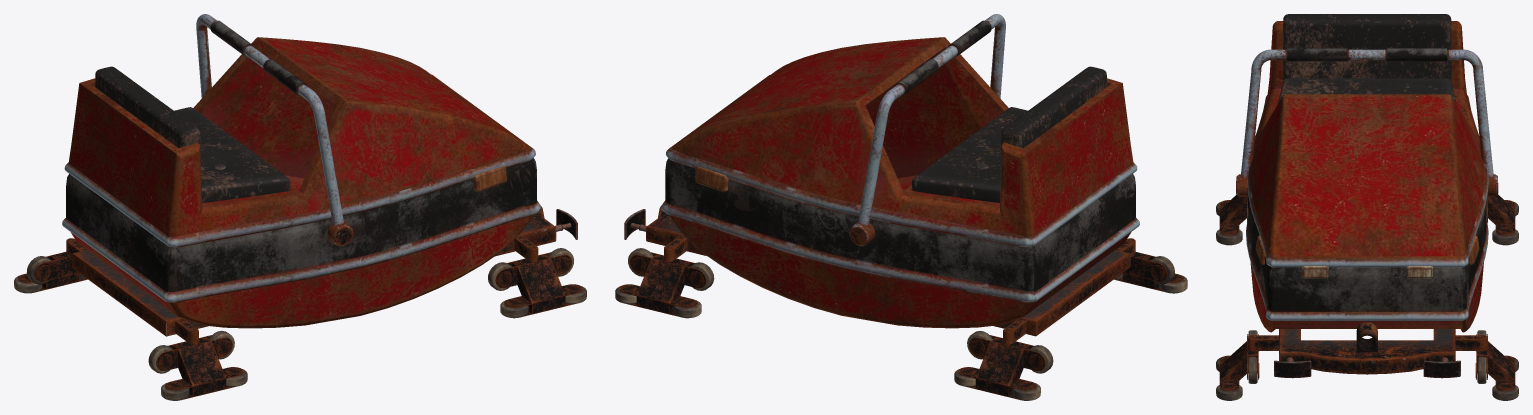
File: AbandonedCoasterCart.fbx
3 renders of one model, left to right at view 1: azimuth 30°, elevation 25°; view 2: azimuth 150°, elevation 25°; view 3: azimuth 270°, elevation 25°, orthographic. The views are drawn at different scales.
Parts seen in each view (by area): view 1: CartTrim, CartFrame, CartBody; view 2: CartTrim, CartFrame, CartBody; view 3: CartTrim, CartFrame, CartBody.
Part boxes in pixels (left/top/right/bottom): CartTrim: left=62, top=37, right=540, bottom=328; CartFrame: left=14, top=66, right=586, bottom=400; CartBody: left=72, top=14, right=556, bottom=336; CartTrim: left=661, top=37, right=1139, bottom=328; CartFrame: left=615, top=66, right=1187, bottom=400; CartBody: left=646, top=14, right=1130, bottom=336; CartTrim: left=1246, top=21, right=1488, bottom=332; CartFrame: left=1216, top=14, right=1518, bottom=400; CartBody: left=1236, top=48, right=1498, bottom=374.
Size of the model in its own units: 215 by 117 by 135.
3 materials, 3 textured.
